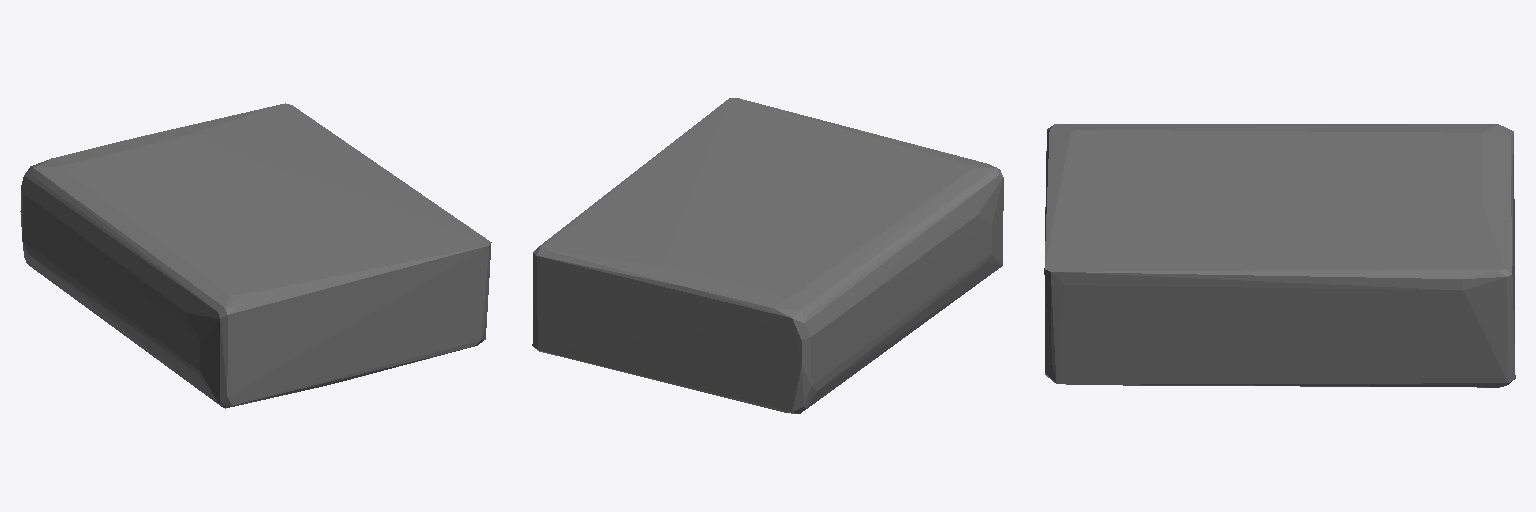
The robot description file, URDF, robot "book_002":
<?xml version="1.0" ?>
<robot name="book_002">
  <material name="color">
    <color rgba=".5 .5 .5 1"/>
  </material>

  <link name="base_link">
    <contact>
      <lateral_friction value="1.0"/>
      <rolling_friction value="0.001"/>
      <spinning_friction value="0.001"/>
      <inertia_scaling value="1.0"/>
    </contact>
    <inertial>
      <origin rpy="0 0 0" xyz="0.000339199 6.86783e-05 0.00096055"/>
       <mass value="0.1"/>
       <inertia ixx="1" ixy="0" ixz="0" iyy="1" iyz="0" izz="1"/>
    </inertial>

    <visual>
      <origin rpy="0 0 0" xyz="0 0 0"/>
      <geometry>
        <mesh filename="book_002_vhacd_0_of_1.obj" scale="1 1 1"/>
      </geometry>
      <material name="color"/>
    </visual>

    <collision>
      <origin rpy="0 0 0" xyz="0 0 0"/>
      <geometry>
        <mesh filename="book_002_vhacd_0_of_1.obj" scale="1 1 1"/>
      </geometry>
    </collision>

  </link>
</robot>

--- What the picture shows (computed from the rendered views, not written in the file) ---
The picture shows the robot from 3 angles, left to right: view 1: azimuth 30°, elevation 25°; view 2: azimuth 150°, elevation 25°; view 3: azimuth 270°, elevation 25°; orthographic projection.
Model book_002 with 1 links and 0 joints (none), rooted at base_link, posed every joint at zero.
Visible links, largest first — view 1: base_link; view 2: base_link; view 3: base_link.
Link boxes in pixels (left/top/right/bottom): base_link: left=20, top=103, right=491, bottom=408; base_link: left=532, top=98, right=1003, bottom=413; base_link: left=1044, top=124, right=1515, bottom=387.
Bounding box of the posed robot: 0.137 × 0.175 × 0.0505 m (x, y, z).
Meshes: 1 distinct files referenced, 1 mesh visuals loaded (1 OBJ).